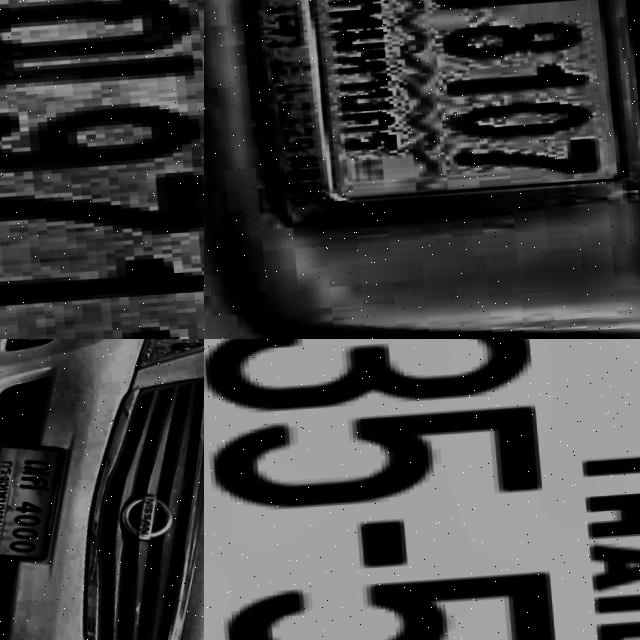license-plate: (204, 339, 640, 640), (232, 0, 640, 250), (0, 0, 204, 339), (0, 440, 75, 568)
